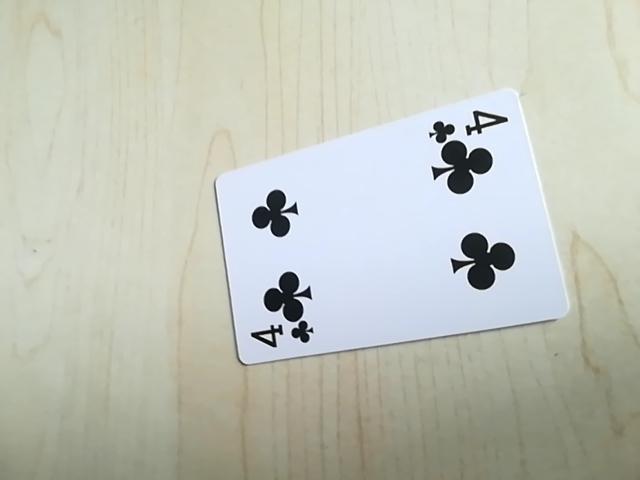mh 4: (425, 106, 508, 142), (241, 321, 320, 357)
